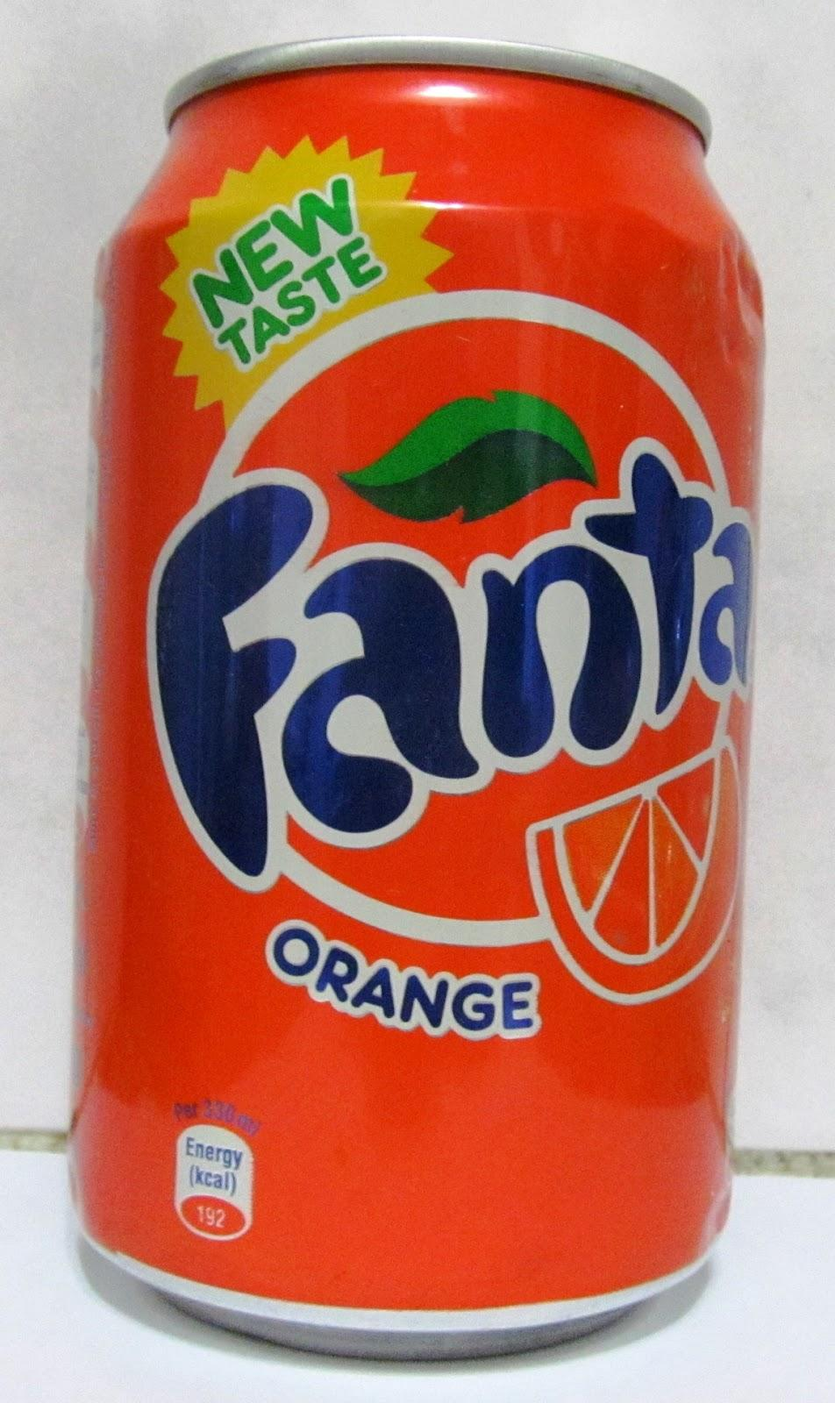metal: (70, 36, 763, 1360)
